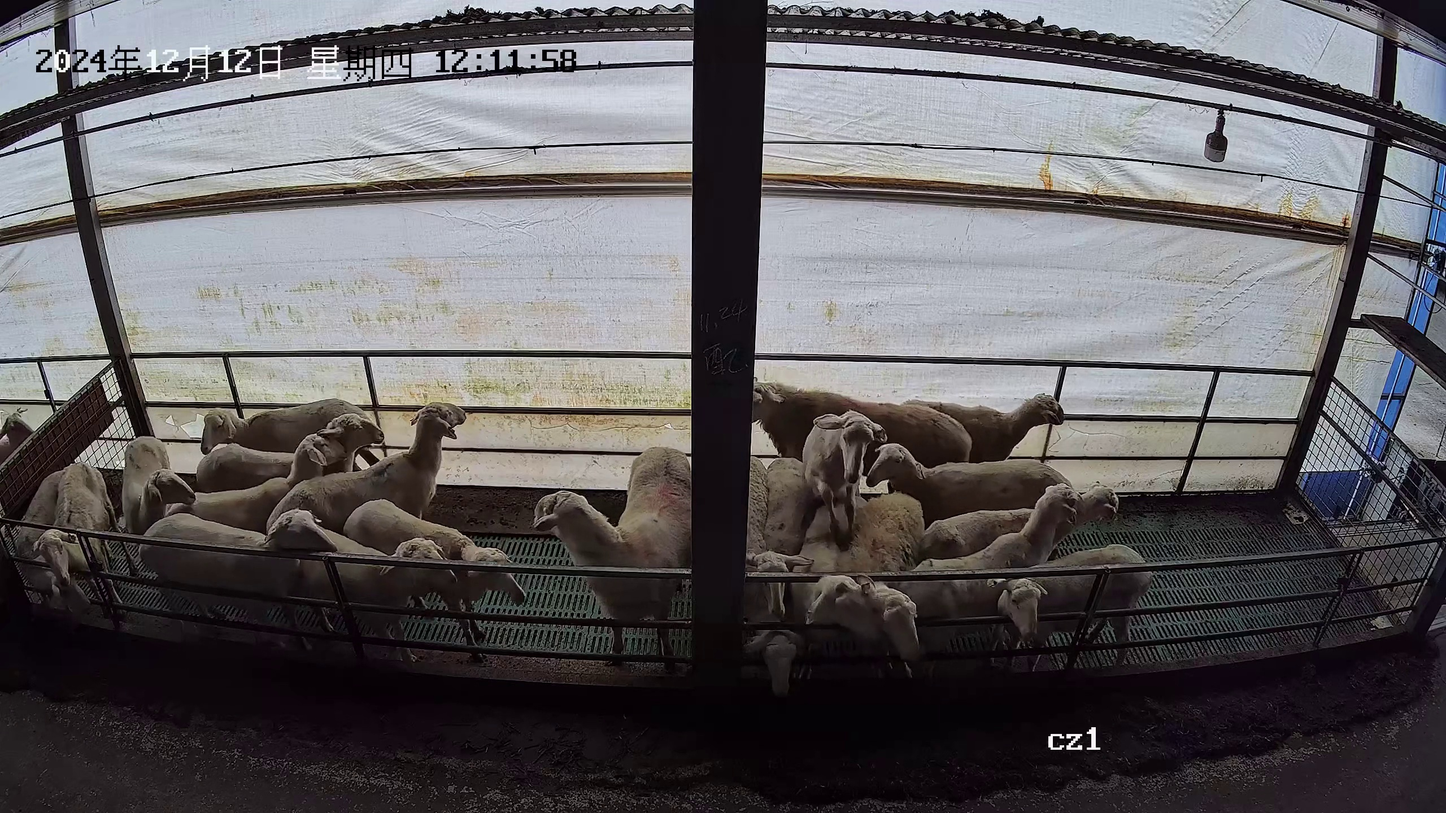Nmounting: (797, 407, 895, 634)
